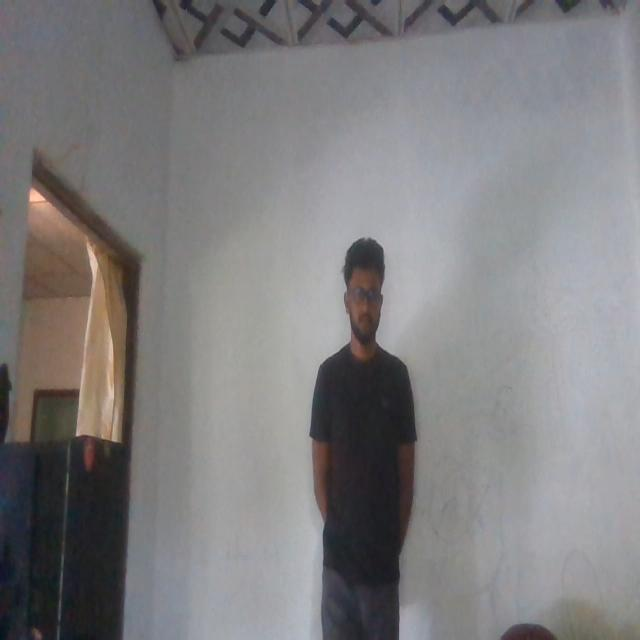Person: (313, 234, 411, 637)
